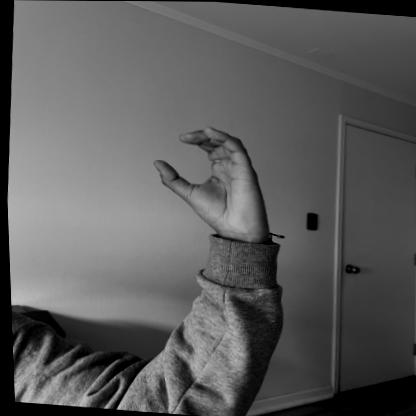C: (142, 117, 281, 241)
